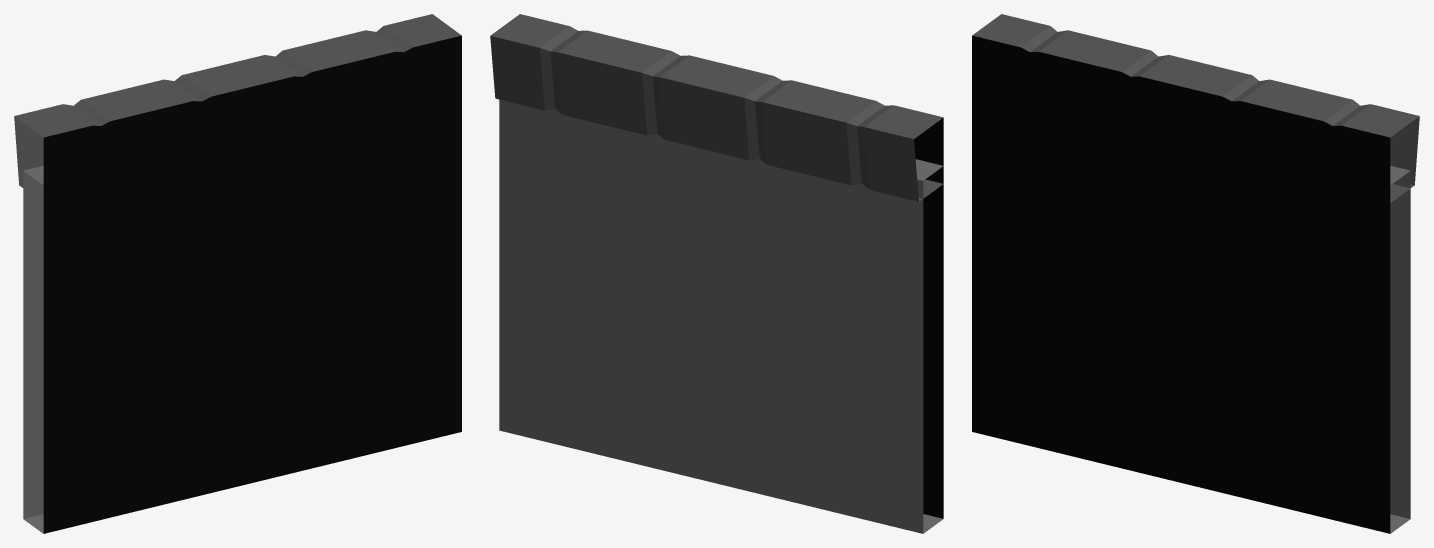
File: Wall_6.fbx
3 views of the same model, side by side, from view 1: azimuth 30°, elevation 25°; view 2: azimuth 150°, elevation 25°; view 3: azimuth 330°, elevation 25° (orthographic).
Visible parts, largest first — view 1: Wall_6; view 2: Wall_6; view 3: Wall_6.
Boxes of the visible parts, box(x1,y1,x2,y2) form: Wall_6: box(14, 14, 461, 533); Wall_6: box(490, 14, 943, 533); Wall_6: box(972, 14, 1419, 533).
Size of the model in its own units: 200 by 181 by 24.35.
